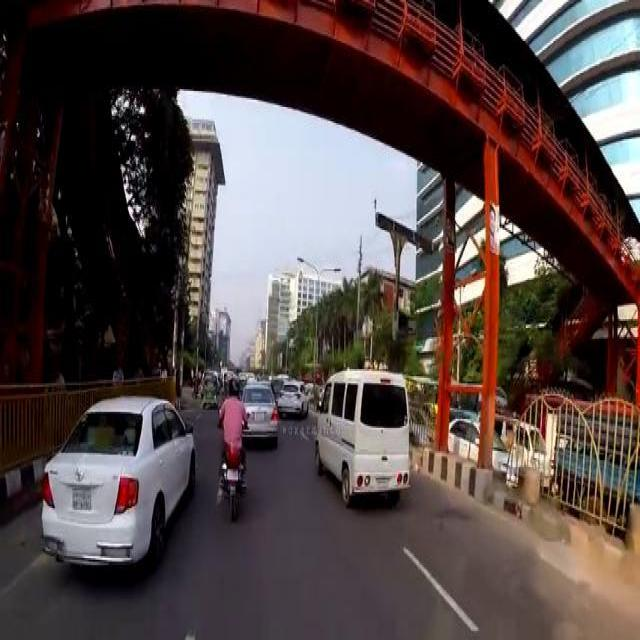bus: (448, 380, 507, 412)
car: (40, 392, 194, 569), (446, 416, 516, 474), (239, 379, 277, 439), (276, 377, 308, 413)
minivan: (312, 368, 410, 498)
motorbike: (219, 408, 247, 514)
three wheelers -CNG-: (200, 370, 218, 405)
